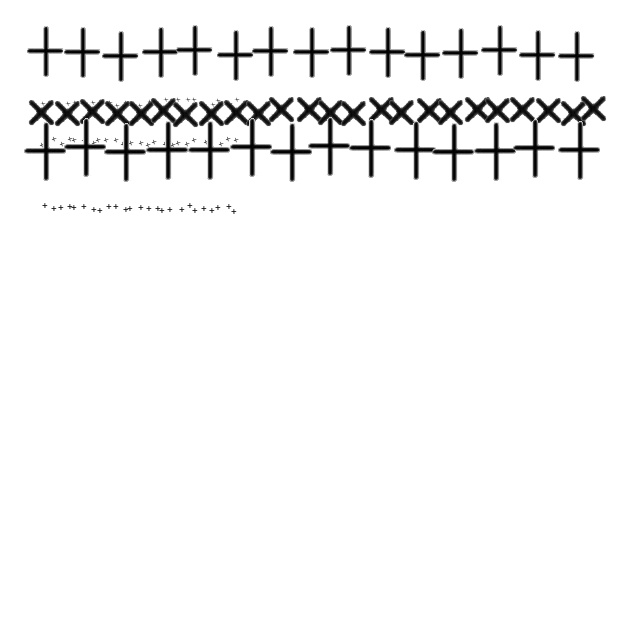double: (346, 119, 394, 179), (510, 119, 558, 179), (22, 122, 68, 182), (62, 118, 108, 178), (102, 123, 148, 183), (144, 121, 190, 181), (186, 121, 232, 181), (228, 118, 274, 178), (268, 123, 314, 183), (306, 117, 352, 177), (392, 121, 438, 181), (430, 123, 476, 183), (472, 122, 518, 182), (556, 121, 602, 181), (24, 26, 66, 78), (214, 30, 256, 82), (290, 27, 332, 79), (366, 27, 408, 79), (478, 25, 520, 77), (516, 30, 558, 82), (62, 27, 102, 79), (100, 31, 140, 83), (140, 27, 180, 79), (174, 25, 214, 77), (250, 26, 290, 78), (328, 25, 368, 77), (402, 30, 442, 82), (440, 28, 480, 80), (556, 31, 596, 83), (52, 96, 84, 130), (102, 96, 134, 130), (126, 96, 158, 130), (196, 96, 228, 130), (266, 92, 298, 126), (294, 92, 326, 126), (338, 96, 370, 130), (366, 92, 398, 126), (462, 92, 494, 126), (558, 96, 590, 130), (26, 96, 58, 128), (148, 94, 180, 126), (170, 98, 202, 130), (386, 96, 418, 128), (414, 94, 446, 126), (482, 94, 514, 126), (578, 92, 610, 124), (78, 94, 108, 128), (244, 96, 274, 130), (508, 92, 538, 126), (222, 96, 252, 128), (316, 96, 346, 128), (436, 96, 466, 128), (534, 94, 564, 126), (48, 100, 54, 106), (72, 100, 78, 106), (81, 100, 87, 106), (90, 100, 96, 106), (98, 100, 104, 106), (107, 100, 113, 106), (123, 100, 129, 106), (168, 100, 174, 106), (201, 102, 207, 108), (210, 102, 216, 108), (215, 98, 221, 104), (39, 142, 45, 148), (51, 136, 57, 142), (59, 141, 65, 147), (67, 136, 73, 142), (71, 137, 77, 143), (81, 137, 87, 143), (91, 140, 97, 146), (95, 137, 101, 143), (103, 137, 109, 143), (113, 137, 119, 143), (120, 141, 126, 147), (128, 140, 134, 146), (138, 140, 144, 146), (145, 142, 151, 148), (151, 139, 157, 145), (162, 141, 168, 147), (170, 142, 176, 148), (175, 140, 181, 146), (184, 141, 190, 147), (191, 137, 197, 143), (203, 139, 209, 145), (207, 138, 213, 144), (218, 141, 224, 147), (225, 136, 231, 142), (233, 137, 239, 143), (51, 206, 57, 212), (67, 204, 73, 210), (81, 204, 87, 210), (97, 208, 103, 214), (106, 204, 112, 210), (113, 204, 119, 210), (127, 206, 133, 212), (146, 206, 152, 212), (155, 206, 161, 212), (159, 208, 165, 214), (192, 208, 198, 214), (201, 206, 207, 212), (209, 208, 215, 214), (226, 204, 232, 210), (40, 102, 46, 106), (56, 104, 62, 108), (65, 102, 71, 106), (114, 104, 120, 108), (130, 104, 136, 108), (137, 104, 143, 108), (147, 100, 153, 104), (151, 100, 157, 104), (163, 98, 169, 102), (175, 98, 181, 102), (185, 98, 191, 102), (191, 98, 197, 102), (227, 102, 233, 106), (234, 98, 240, 102), (42, 204, 48, 208), (58, 206, 64, 210), (71, 206, 77, 210), (91, 208, 97, 212), (123, 208, 129, 212), (138, 206, 144, 210), (167, 208, 173, 212), (179, 208, 185, 212), (187, 204, 193, 208), (215, 206, 221, 210), (231, 210, 237, 214)
